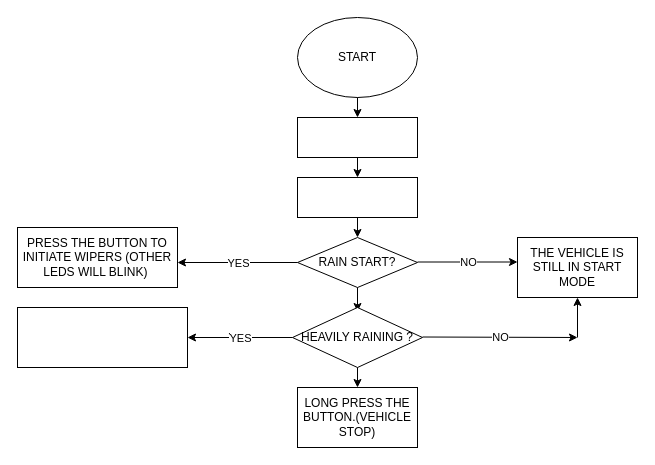
The diagram is 655 pixels wide and 465 high, and some of its shapes have lost their labels. Here are the shapes that lost their labels. From the top down, the centre of each, then its label:
the point at 357,137: LONG PRESS THE SWITCH
the point at 357,197: VEHICLE START
the point at 102,337: PRESS THE BUTTON AGAIN TO INCREASE THE SPEED OF THE WIPER(LEDS BLINK FAST)
